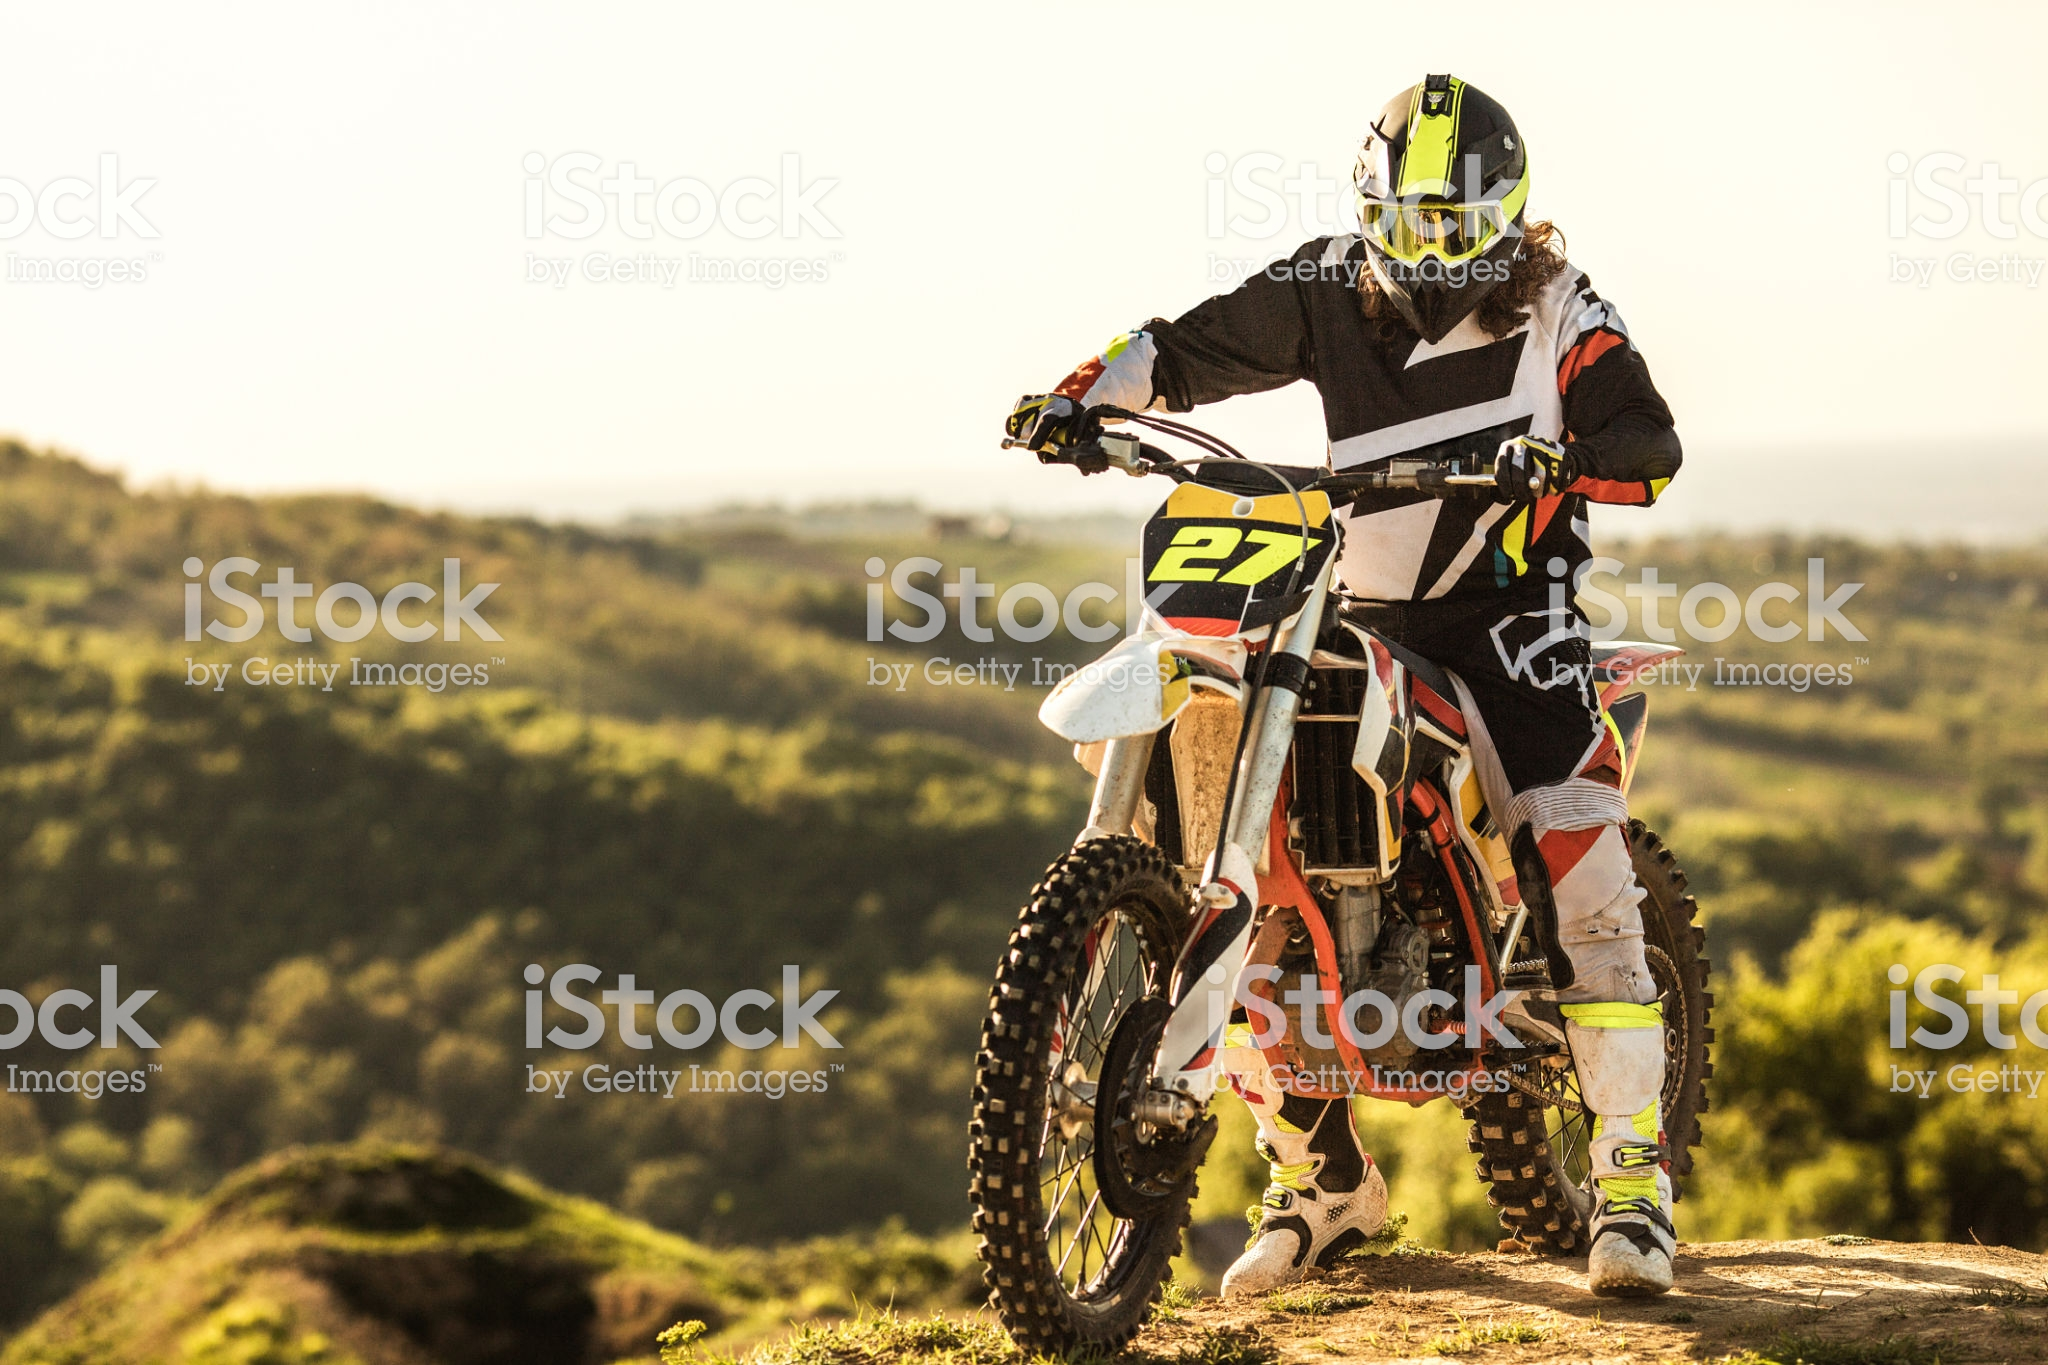helmet: (1364, 81, 1539, 315)
